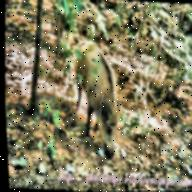boar: (52, 32, 153, 165)
